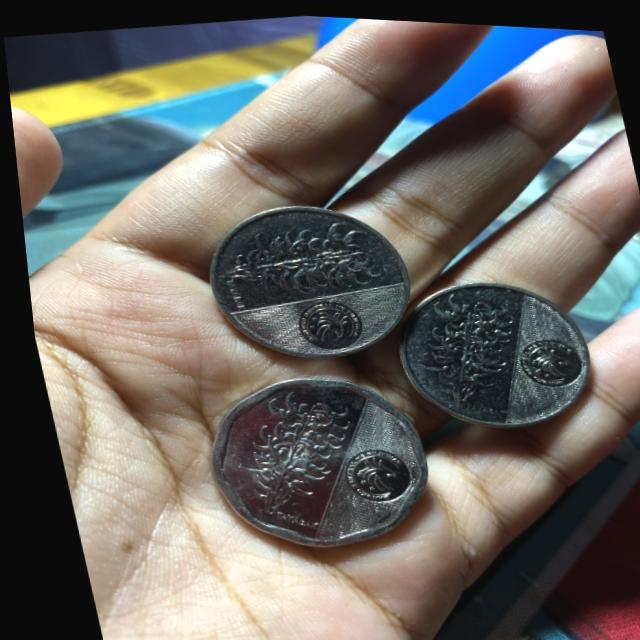5_New_Back: (198, 390, 360, 520), (398, 282, 519, 412), (219, 215, 396, 302)
